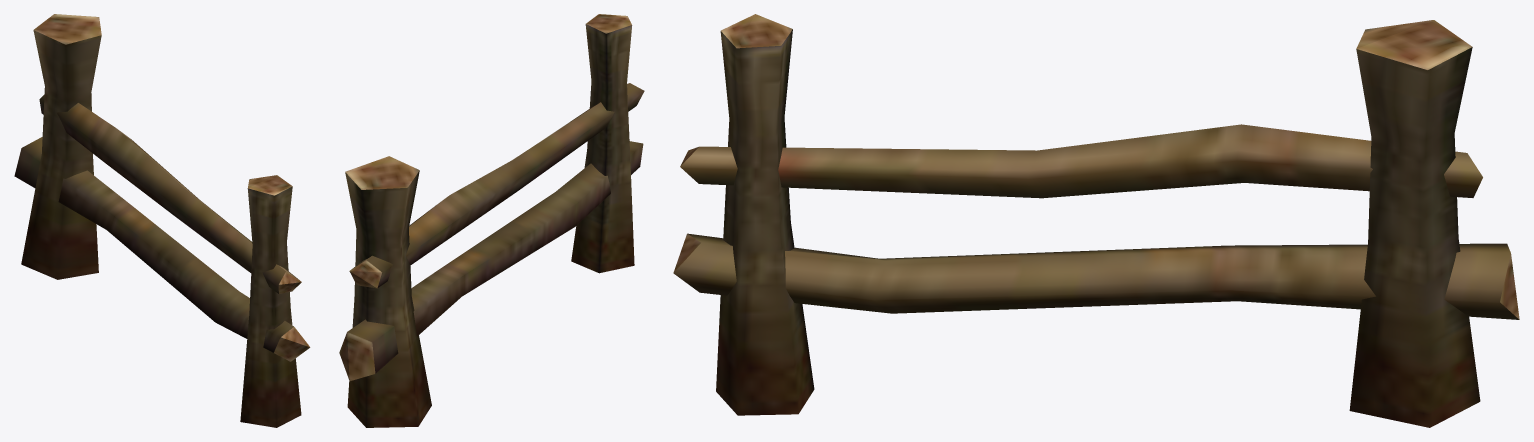
The model's file is GYMA00105_09.FBX.
The picture shows the model from 3 angles, left to right: view 1: azimuth 30°, elevation 25°; view 2: azimuth 150°, elevation 25°; view 3: azimuth 270°, elevation 25°; orthographic projection. The views are drawn at different scales.
Visible parts, largest first — view 1: MA00105_09; view 2: MA00105_09; view 3: MA00105_09.
Boxes of the visible parts, x1,y1,x2,y2 form: MA00105_09: (14,14,310,427); MA00105_09: (339,14,644,427); MA00105_09: (673,14,1519,427).
Size of the model in its own units: 0.7593 by 2.27 by 4.75.
